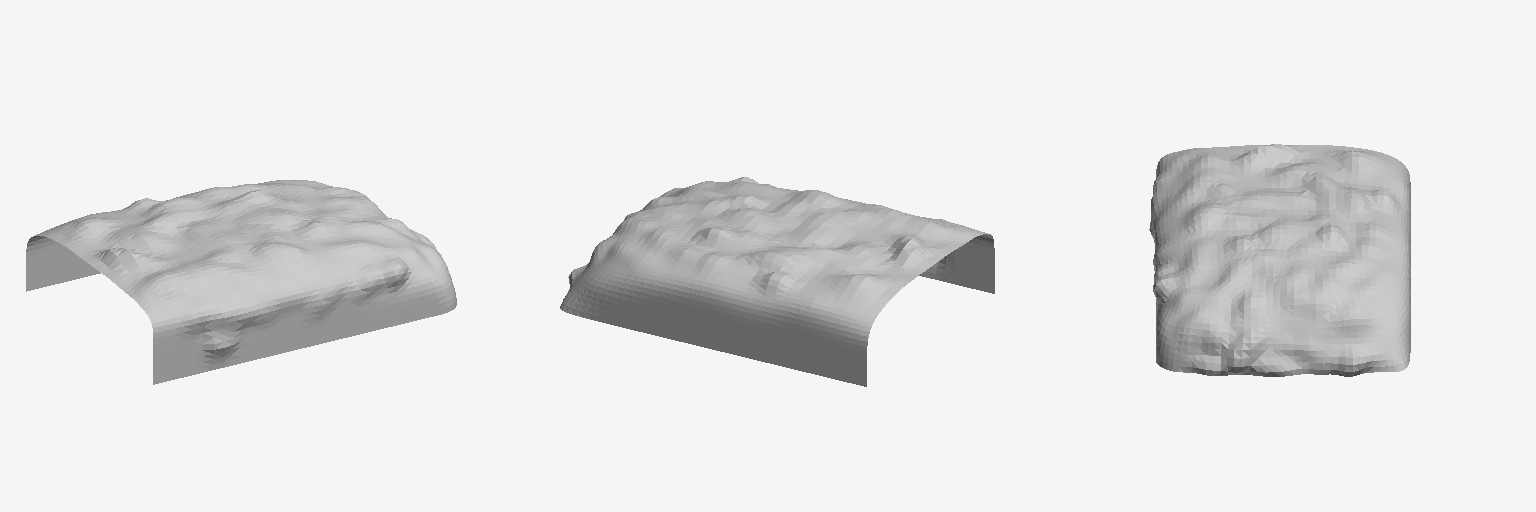
Rendered from cart_body_parts.obj.
3 renders of one model, left to right at view 1: azimuth 30°, elevation 25°; view 2: azimuth 150°, elevation 25°; view 3: azimuth 270°, elevation 25°, orthographic.
Bounding box in the file's own units: 2.99 × 0.7689 × 2.05.